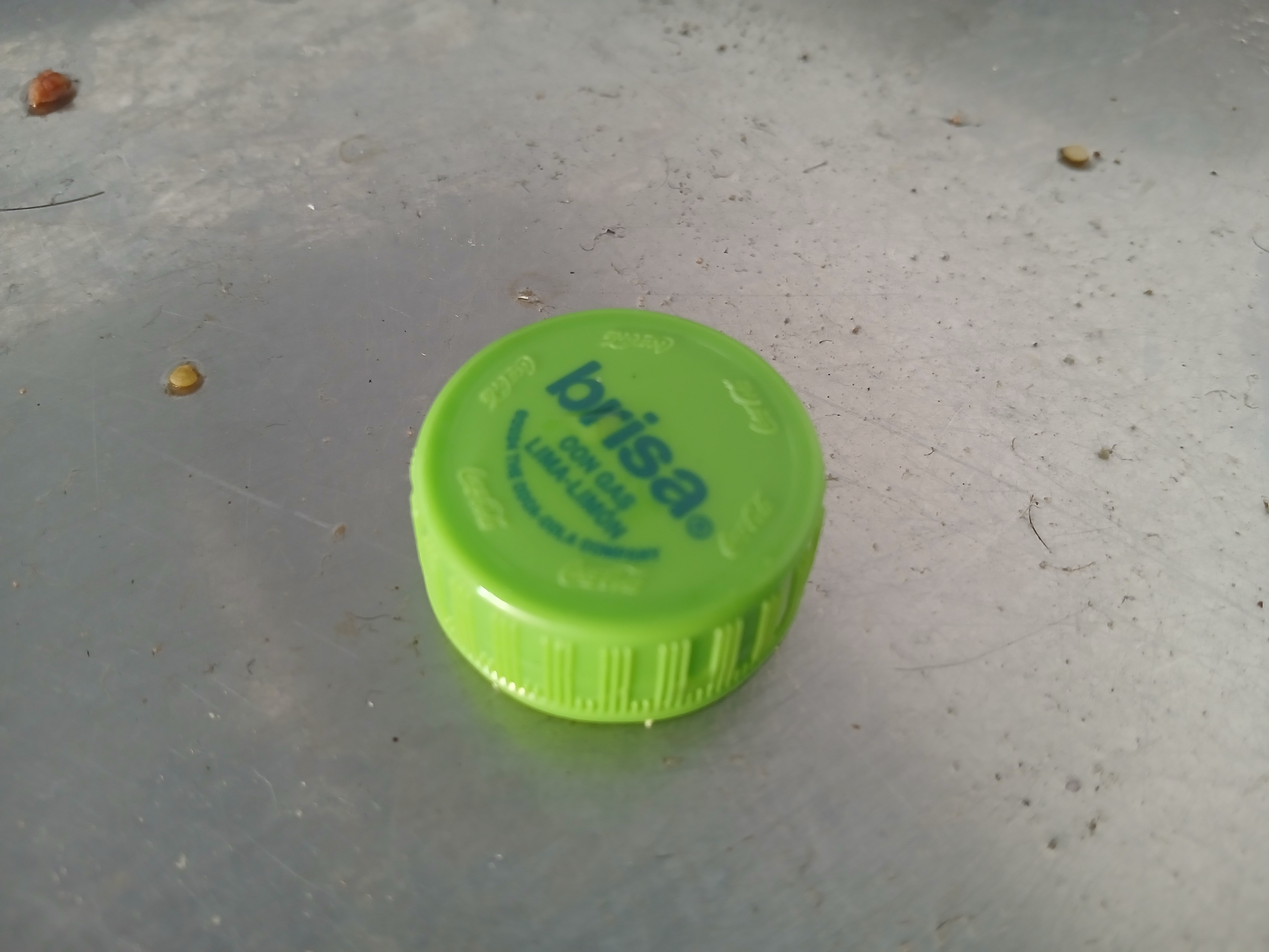Plastico: (409, 311, 827, 721)
